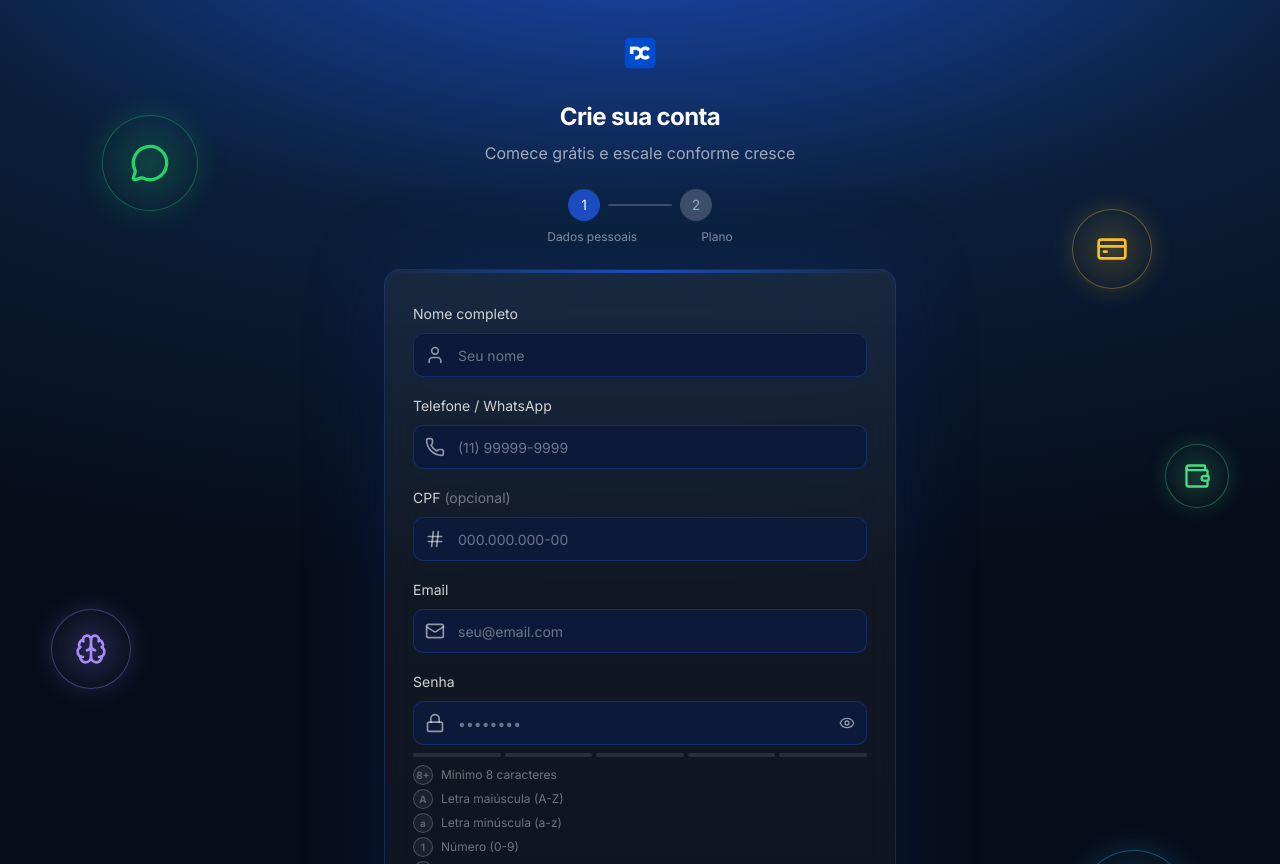
Test: Cadastro Page › should validate name field
In the field labelled "Nome completo": (640, 355) [413, 333, 867, 377], type "J"
(page scrolled)
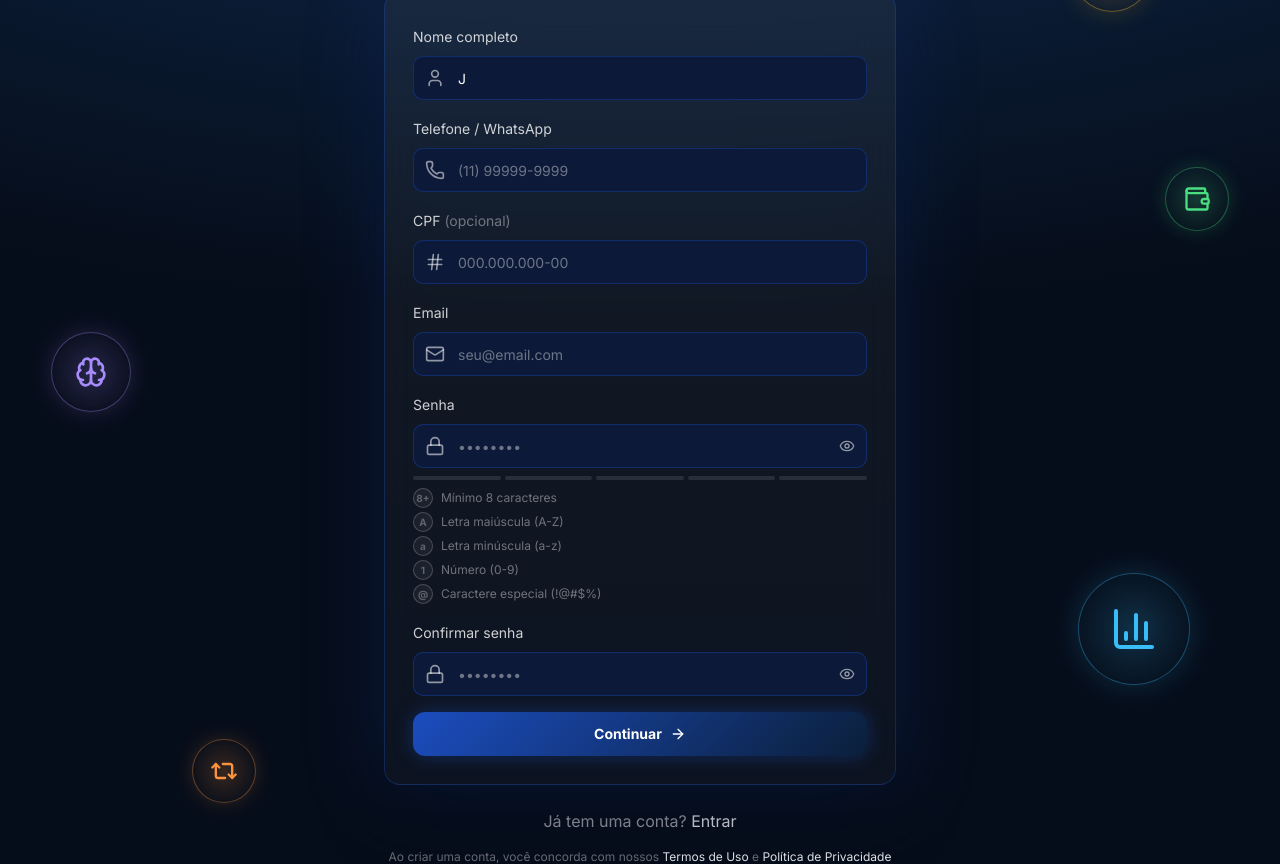
Click the button "Continuar": (640, 734) [413, 712, 867, 756]
(page scrolled)
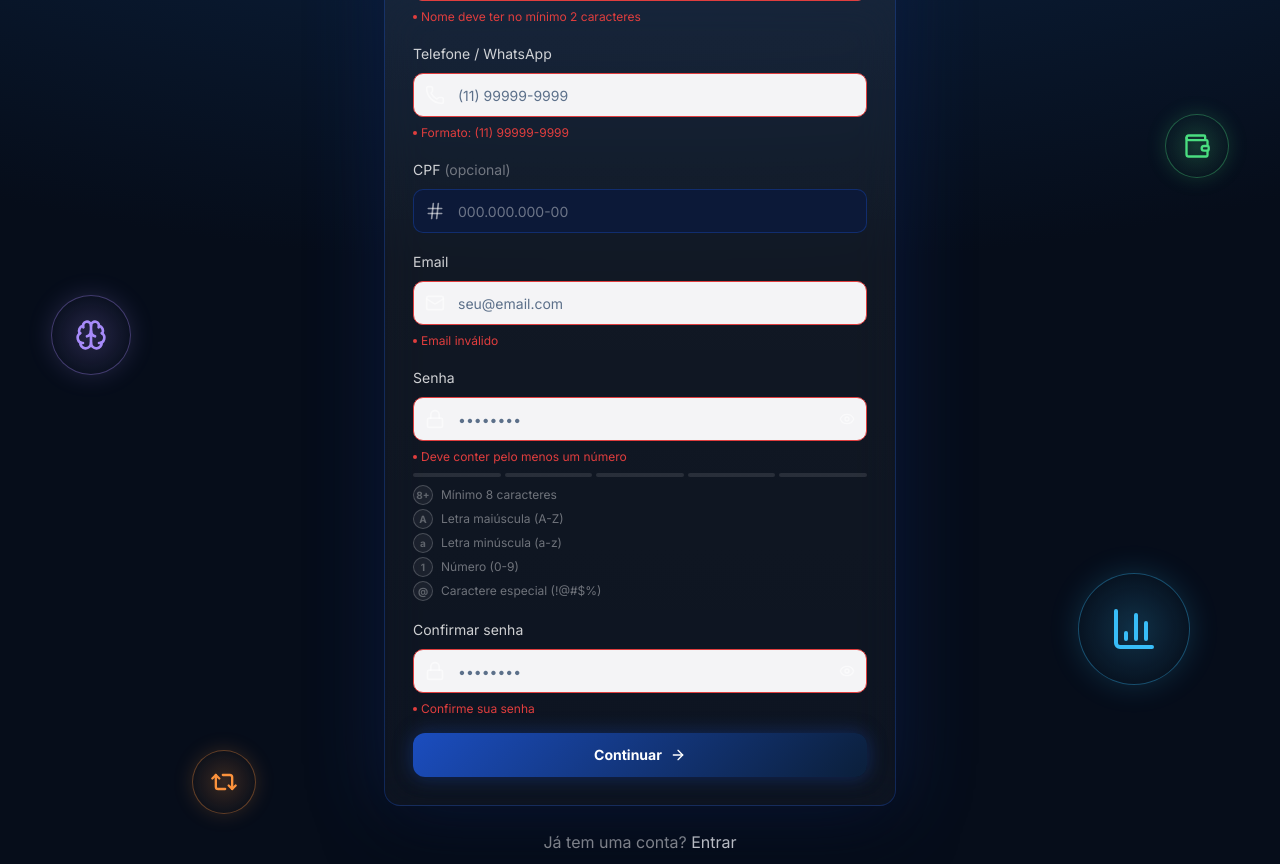
Check: the text "Nome deve ter no mínimo 2 caracteres" is shown, box [413, 9, 641, 24]
